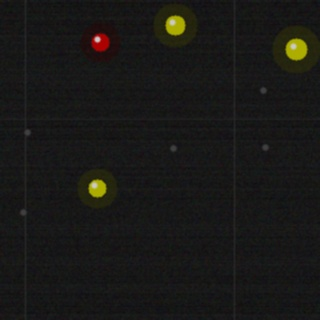red_fault: (89, 31, 111, 53)
yellow_warning: (283, 36, 309, 62), (163, 13, 187, 37), (86, 177, 108, 199)
